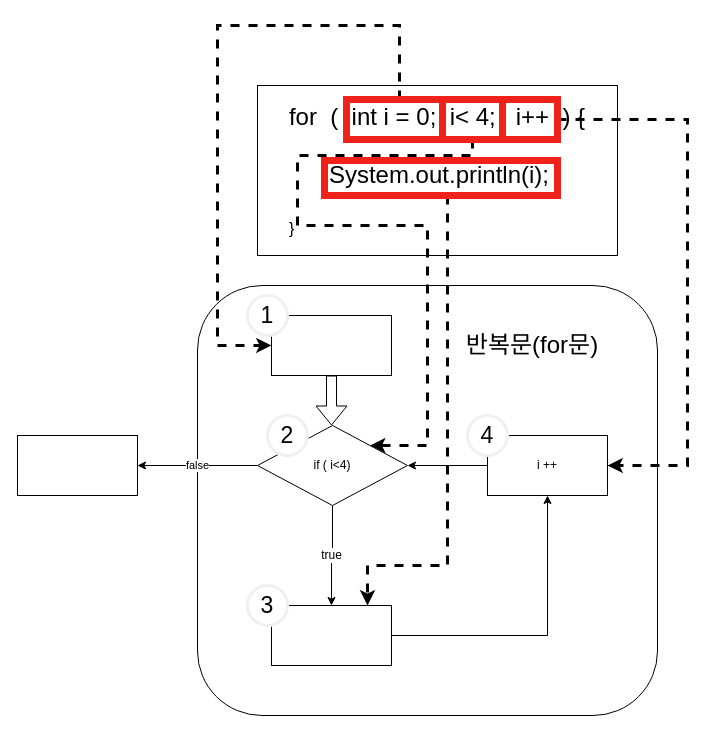
Image size: 714x733. Some labels were removed from this diagram. The shapes that lost their labels are listed below. From the top down, each one's centre as x and y in pixels, then its label:
At [331,345]: "int i = 0;".
At [77,465]: "for문 종료".
At [331,635]: "i 출력".
